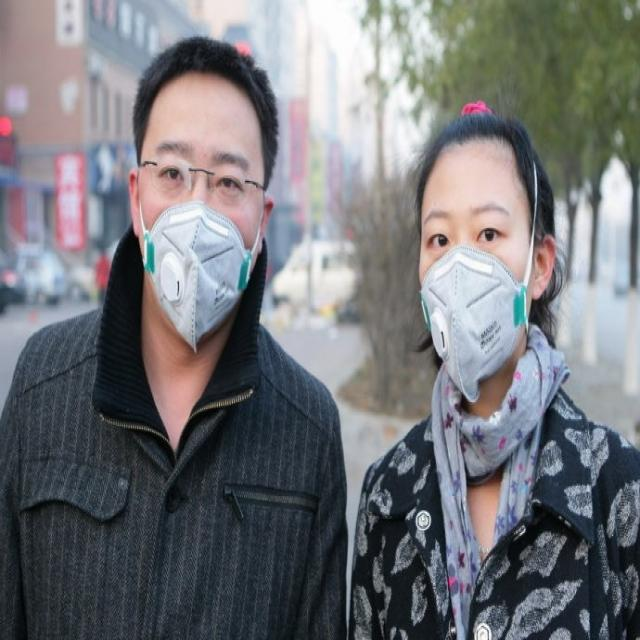mask: (137, 84, 264, 335), (418, 153, 532, 372)
